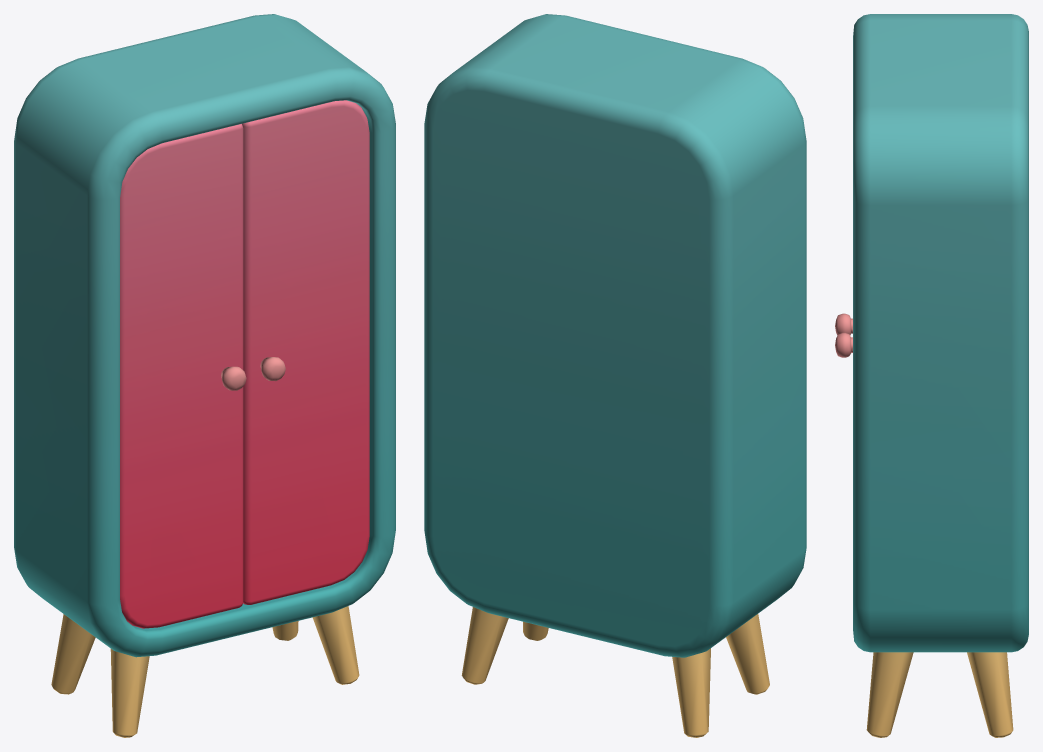
Rendered from cute-furniture-glb-closet-02.glb.
The picture shows the model from 3 angles, left to right: view 1: azimuth 30°, elevation 25°; view 2: azimuth 150°, elevation 25°; view 3: azimuth 270°, elevation 25°; orthographic projection.
Parts seen in each view (by area): view 1: Closet_02; view 2: Closet_02; view 3: Closet_02.
Boxes of the visible parts, bbox=[...] form: Closet_02: bbox=[14, 14, 395, 737]; Closet_02: bbox=[424, 14, 806, 737]; Closet_02: bbox=[835, 14, 1028, 737].
Size of the model in its own units: 0.8 by 1.55 by 0.4405.
1 material, 1 textured.
